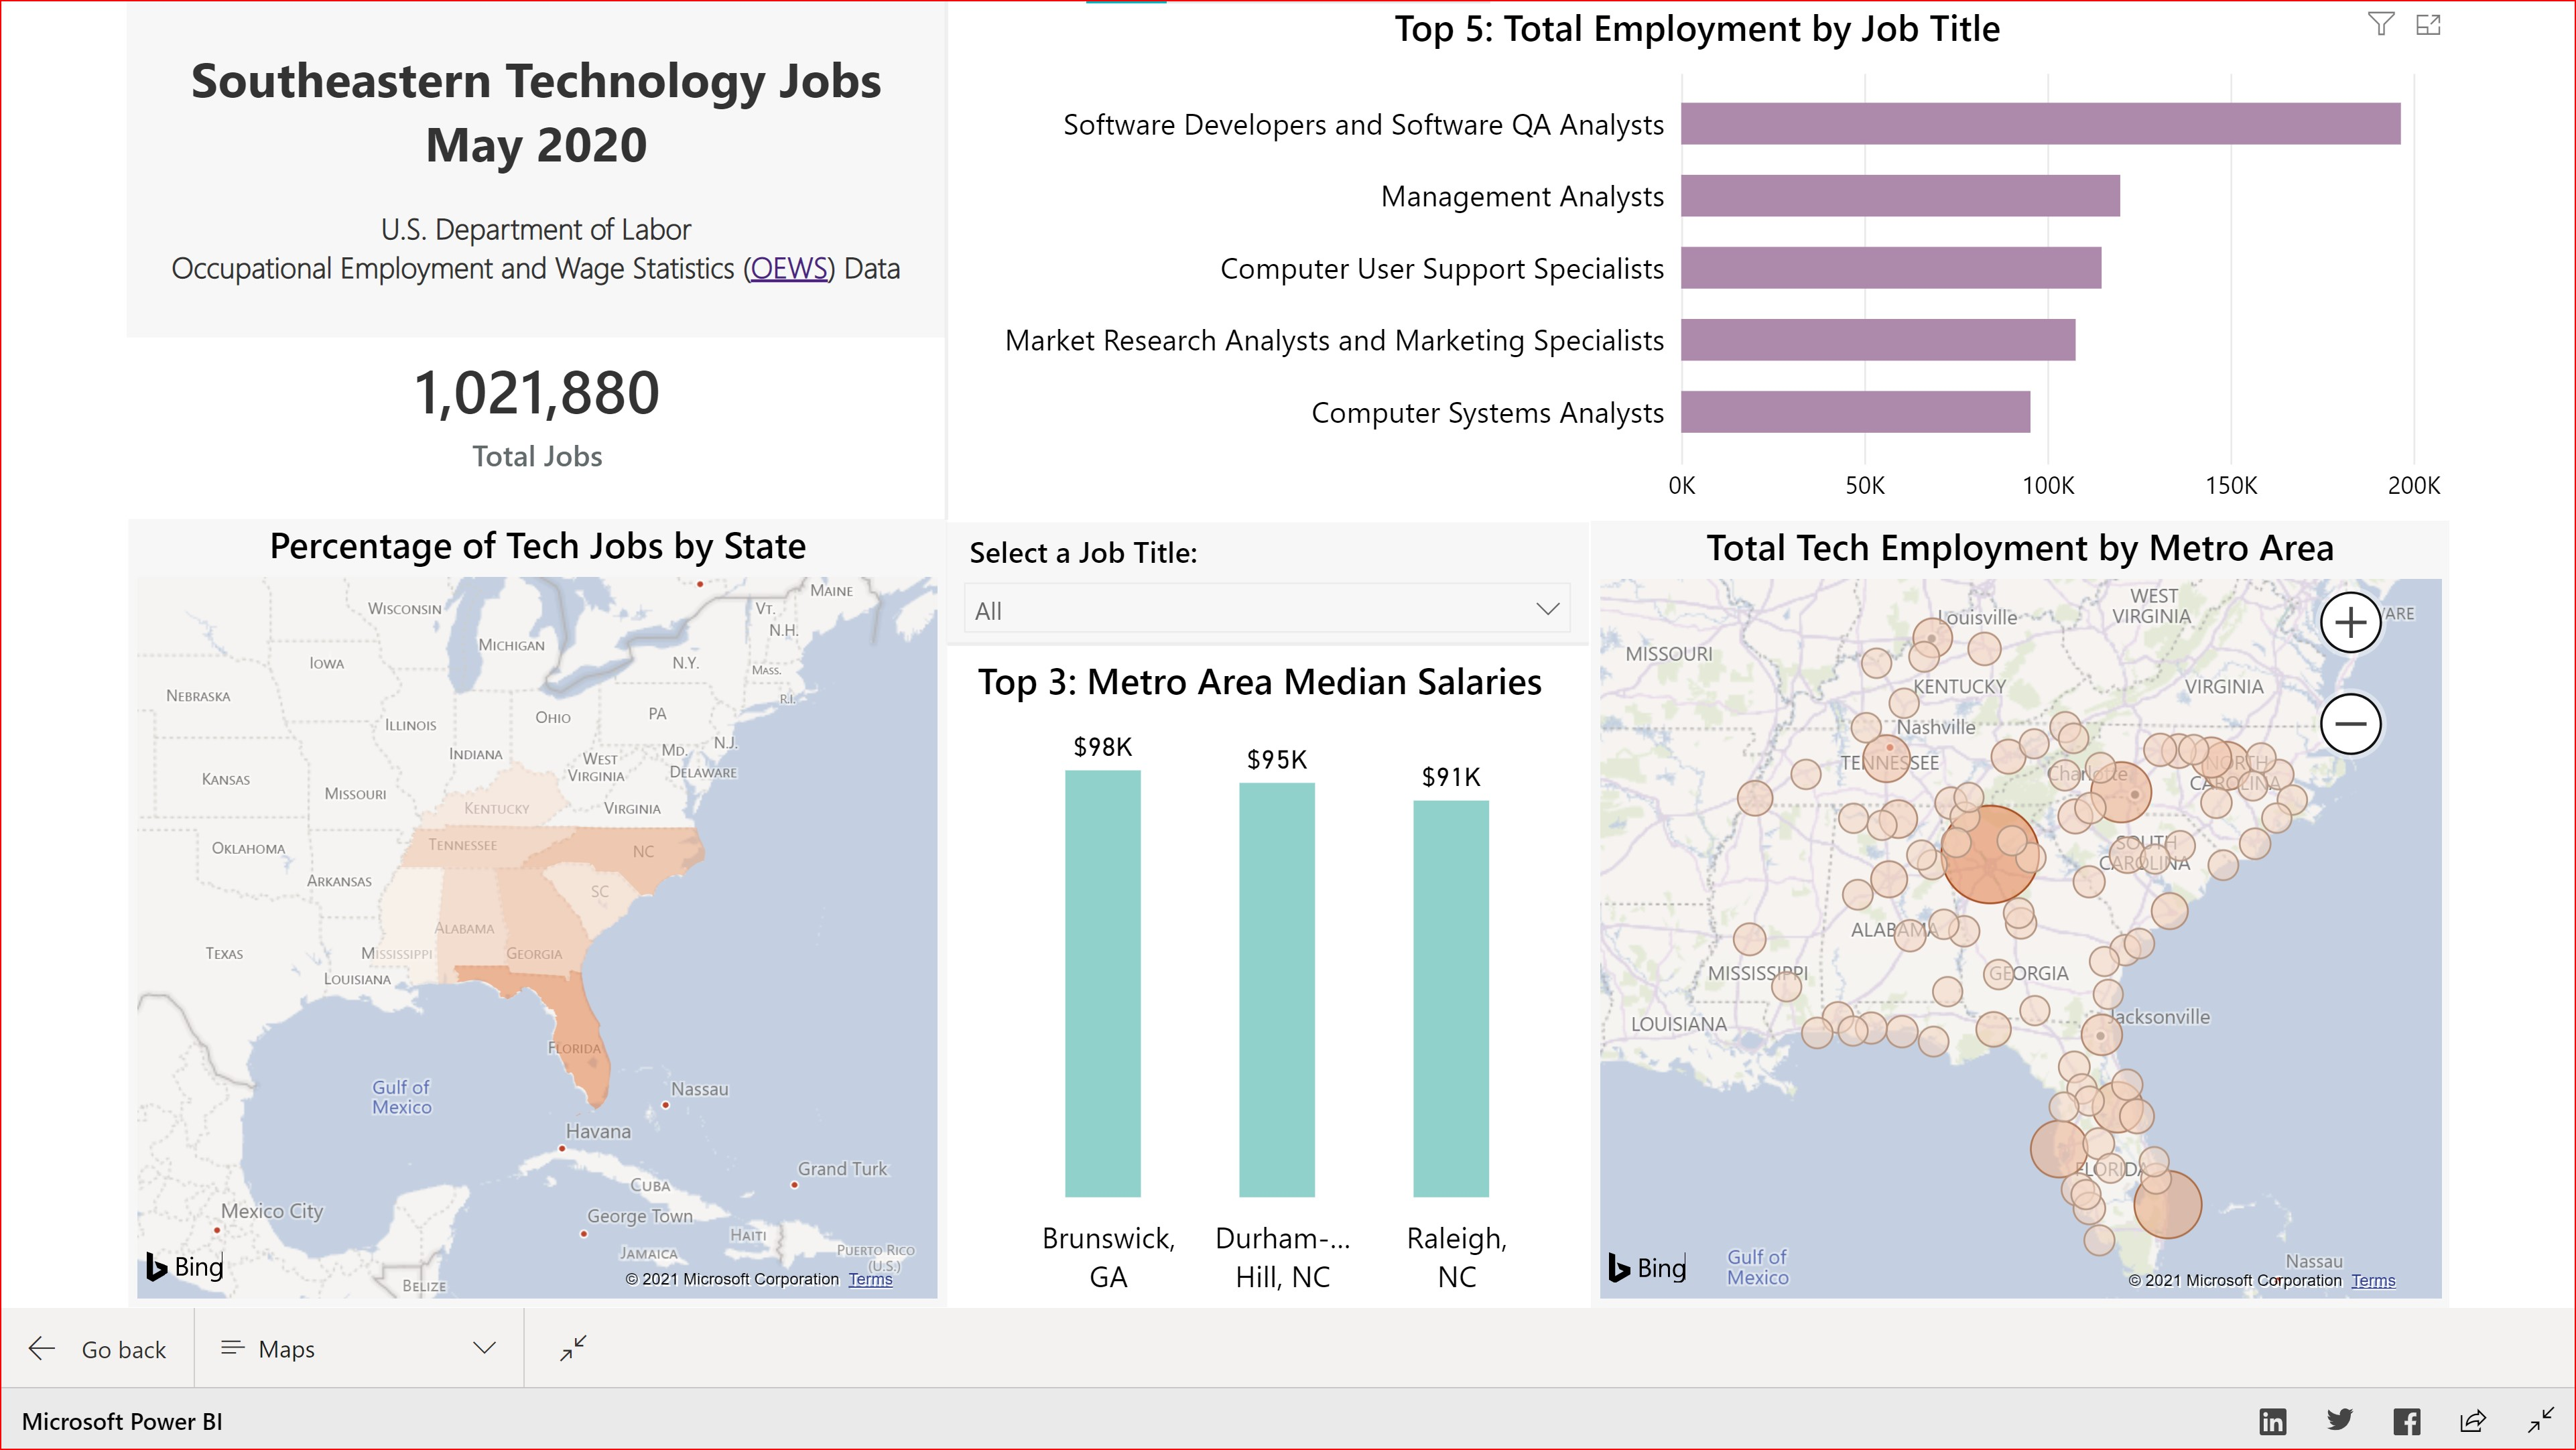

The dashboard page shown, as its layout file describes it:
{"tool":"powerbi","page":{"name":"Maps","canvas":[1280,720],"ordinal":0},"visuals":[{"type":"filledMap","title":"Percentage of Tech Jobs by State","fields":{"Category":["southeast.STATE"]},"box":[0,278.4,451.2,442.1],"z":0},{"type":"map","title":"Total Tech Employment by Metro Area","fields":{"Category":["southeast.AREA_NAME"],"Size":["Sum(southeast.TOT_EMP)"]},"box":[803.4,278,476.6,442.6],"z":1000},{"type":"clusteredColumnChart","title":"Top 3: Metro Area Median Salaries","fields":{"Category":["southeast.AREA_NAME"],"Y":["Avg(southeast.SAL_MEDIAN)"]},"box":[448.2,359.7,351.8,360.9],"z":2000},{"type":"textbox","box":[0,0,451,185.3],"z":3000},{"type":"clusteredBarChart","title":"Top 5: Total Employment by Job Title","fields":{"Category":["southeast.OCC_TITLE"],"Y":["Sum(southeast.TOT_EMP)"]},"box":[451.6,5.7,828.4,280.3],"z":4000},{"type":"slicer","fields":{"Values":["southeast.OCC_TITLE"]},"box":[450.5,278,355.2,77.2],"z":5000},{"type":"card","fields":{"Values":["Sum(southeast.TOT_EMP)"]},"box":[0,185.3,447.6,82.6],"z":6000}]}

Visuals, with their boxes on the page's 1280x720 design canvas (x1, y1, x2, y2). These are canvas units, not pixel positions in the 2576x1450 screenshot, which may show the page scaled, cropped or inside an application window:
"Percentage of Tech Jobs by State" filledMap: x1=0 y1=278 x2=451 y2=720
"Total Tech Employment by Metro Area" map: x1=803 y1=278 x2=1280 y2=721
"Top 3: Metro Area Median Salaries" clusteredColumnChart: x1=448 y1=360 x2=800 y2=721
textbox: x1=0 y1=0 x2=451 y2=185
"Top 5: Total Employment by Job Title" clusteredBarChart: x1=452 y1=6 x2=1280 y2=286
slicer - southeast.OCC_TITLE: x1=450 y1=278 x2=806 y2=355
card - Sum(southeast.TOT_EMP): x1=0 y1=185 x2=448 y2=268
